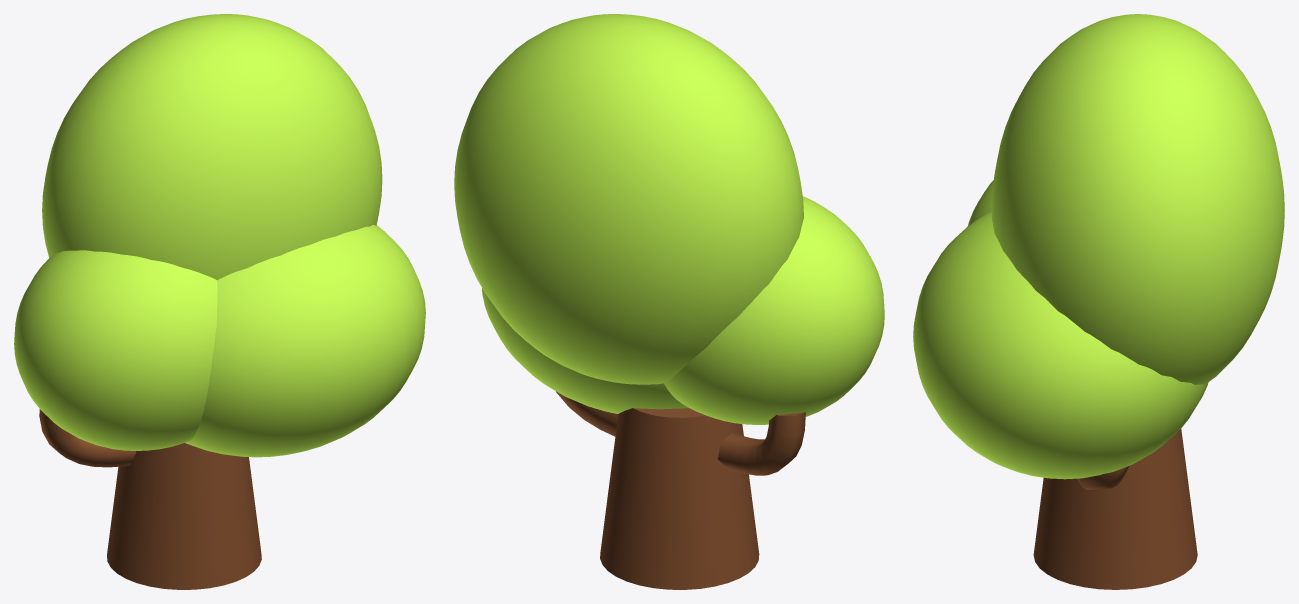
The model's file is bigagac.fbx.
The picture shows the model from 3 angles, left to right: view 1: azimuth 30°, elevation 25°; view 2: azimuth 150°, elevation 25°; view 3: azimuth 270°, elevation 25°; orthographic projection. The views are drawn at different scales.
Visible parts, largest first — view 1: agacbig.001, agacbig, agacbig.005, agacbig.004, agacbig.002; view 2: agacbig.001, agacbig.005, agacbig.004, agacbig, agacbig.002, agacbig.003; view 3: agacbig.001, agacbig, agacbig.004, agacbig.003.
Part boxes in pixels (left/top/right/bottom): agacbig.001: left=42, top=14, right=382, bottom=279; agacbig: left=185, top=225, right=425, bottom=457; agacbig.005: left=14, top=250, right=217, bottom=450; agacbig.004: left=107, top=443, right=261, bottom=589; agacbig.002: left=39, top=409, right=136, bottom=467; agacbig.001: left=454, top=14, right=803, bottom=384; agacbig.005: left=664, top=196, right=884, bottom=424; agacbig.004: left=600, top=407, right=759, bottom=589; agacbig: left=482, top=288, right=687, bottom=413; agacbig.002: left=717, top=412, right=805, bottom=475; agacbig.003: left=556, top=391, right=618, bottom=436; agacbig.001: left=991, top=14, right=1284, bottom=384; agacbig: left=913, top=211, right=1208, bottom=479; agacbig.004: left=1033, top=428, right=1197, bottom=589; agacbig.003: left=1077, top=466, right=1128, bottom=489.
Size of the model in its own units: 554 by 731 by 453.
